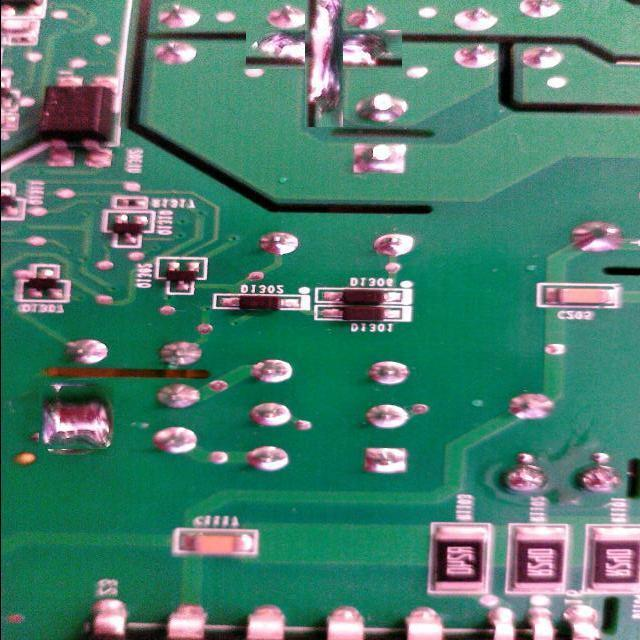Short_circuit: (275, 1, 373, 98), (42, 383, 111, 452)
